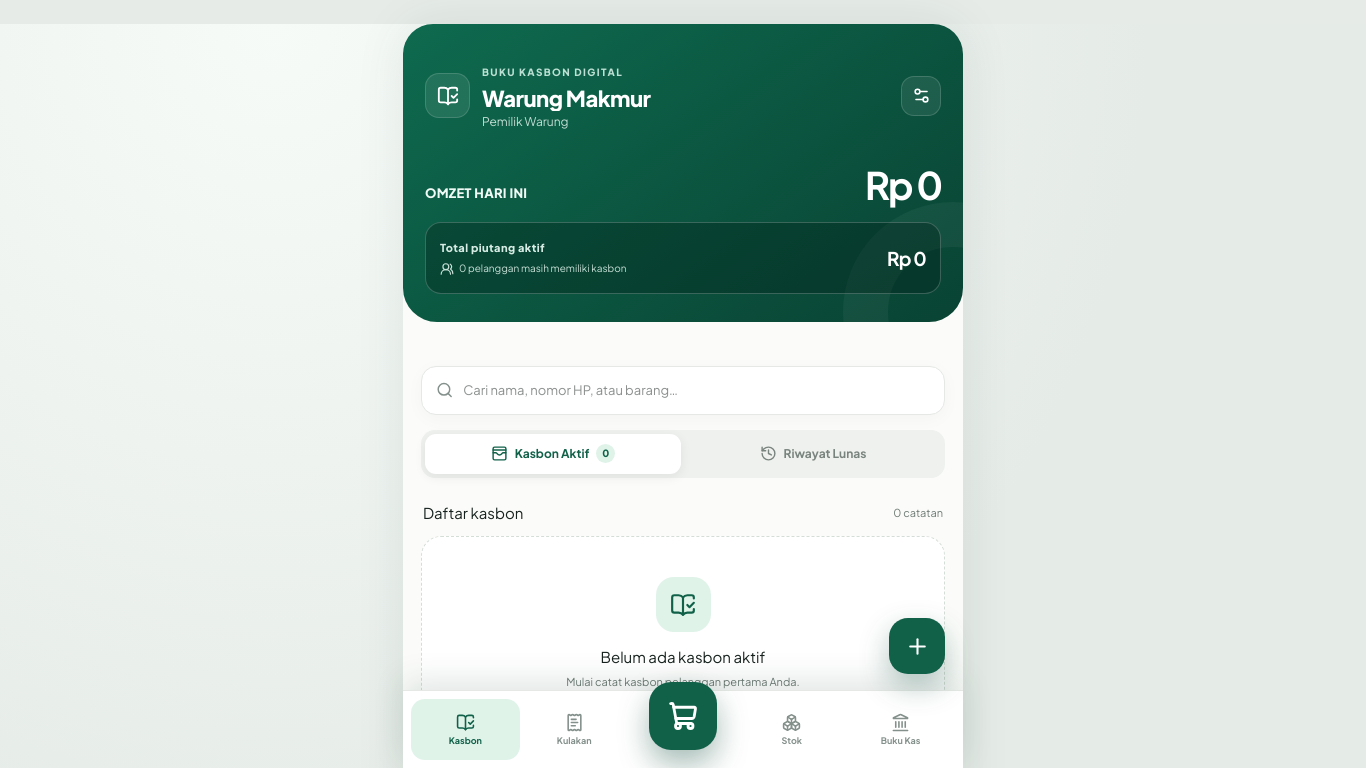
Test case: Warung app navigation › adds a cashier total to today's omzet without reloading
The width and height of the screenshot is (1366, 768).
expect the field with placeholder "Cari nama, nomor HP, atau barang…" is shown: met, box [453,381,930,400]
Click the button named "Buka kasir cepat" at coordinates (683, 716), box [649,682,717,750]
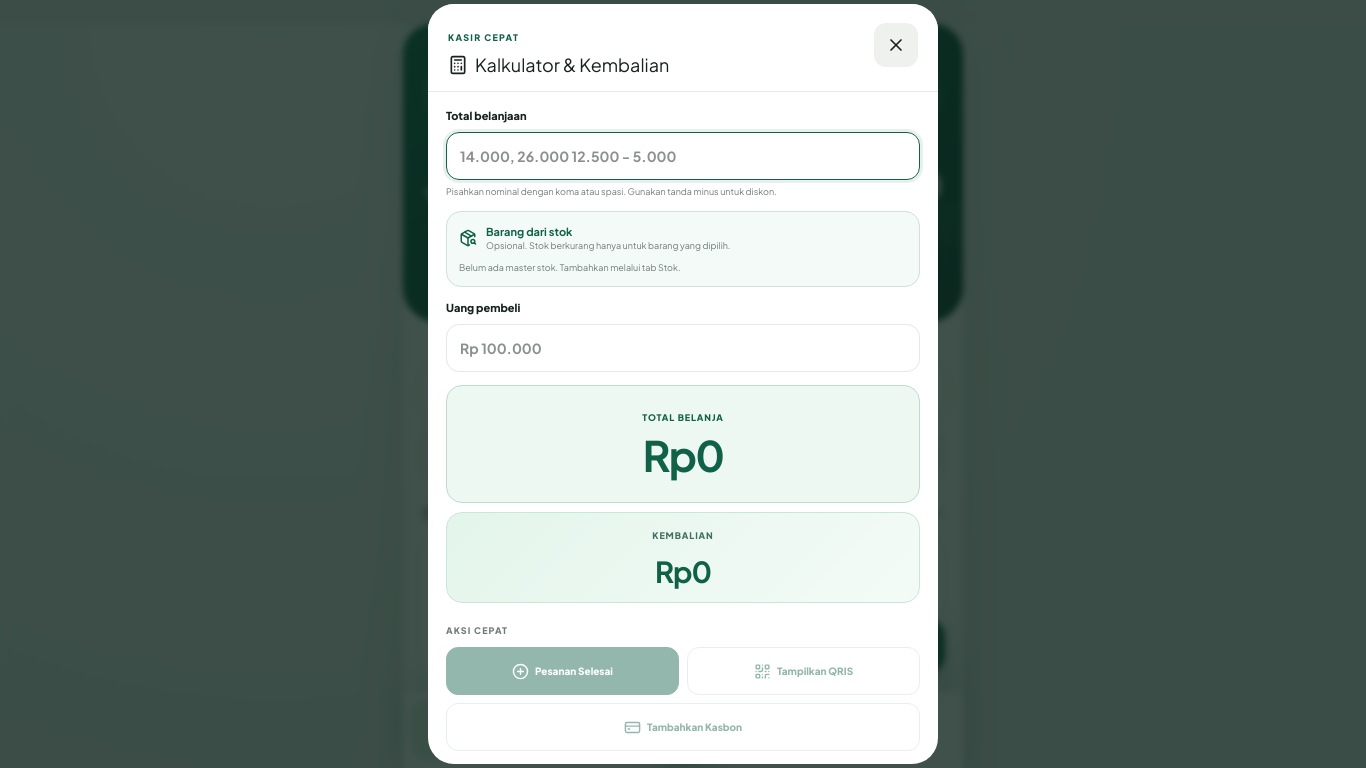
Type "52500" into the field labelled "Total belanjaan" at coordinates (683, 156), box [446,132,920,180]
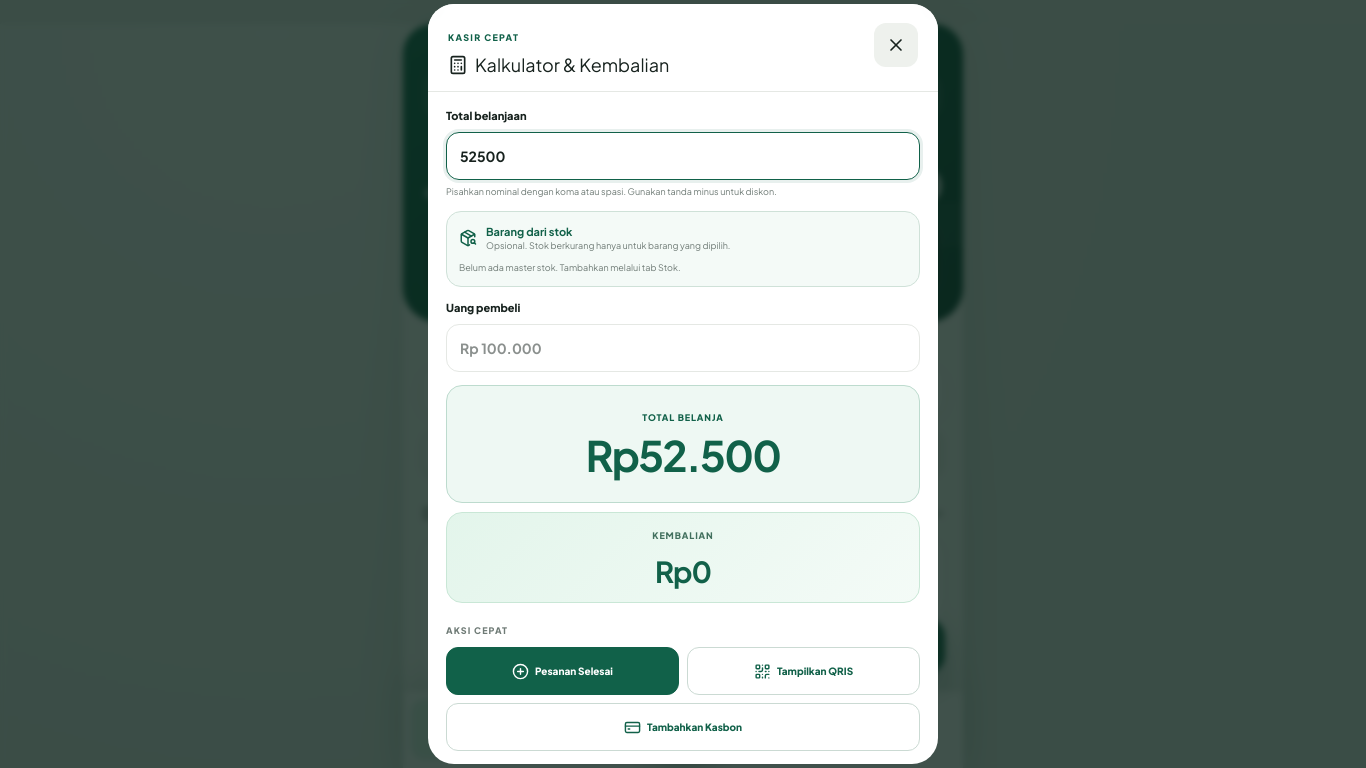
Click the button "Pesanan Selesai" at coordinates (562, 671), box [446,647,679,695]
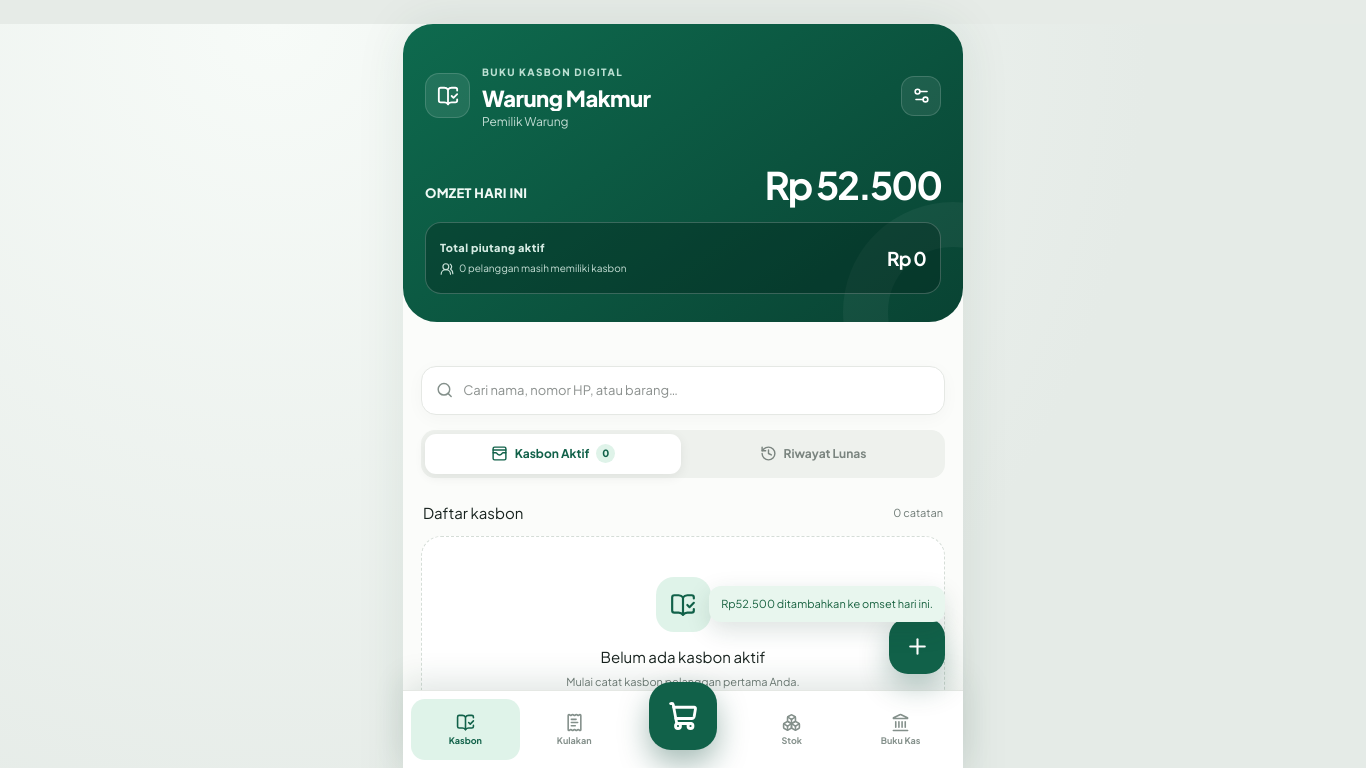
Click the button "Buku Kas" at coordinates (901, 730), box [846,699,955,760]
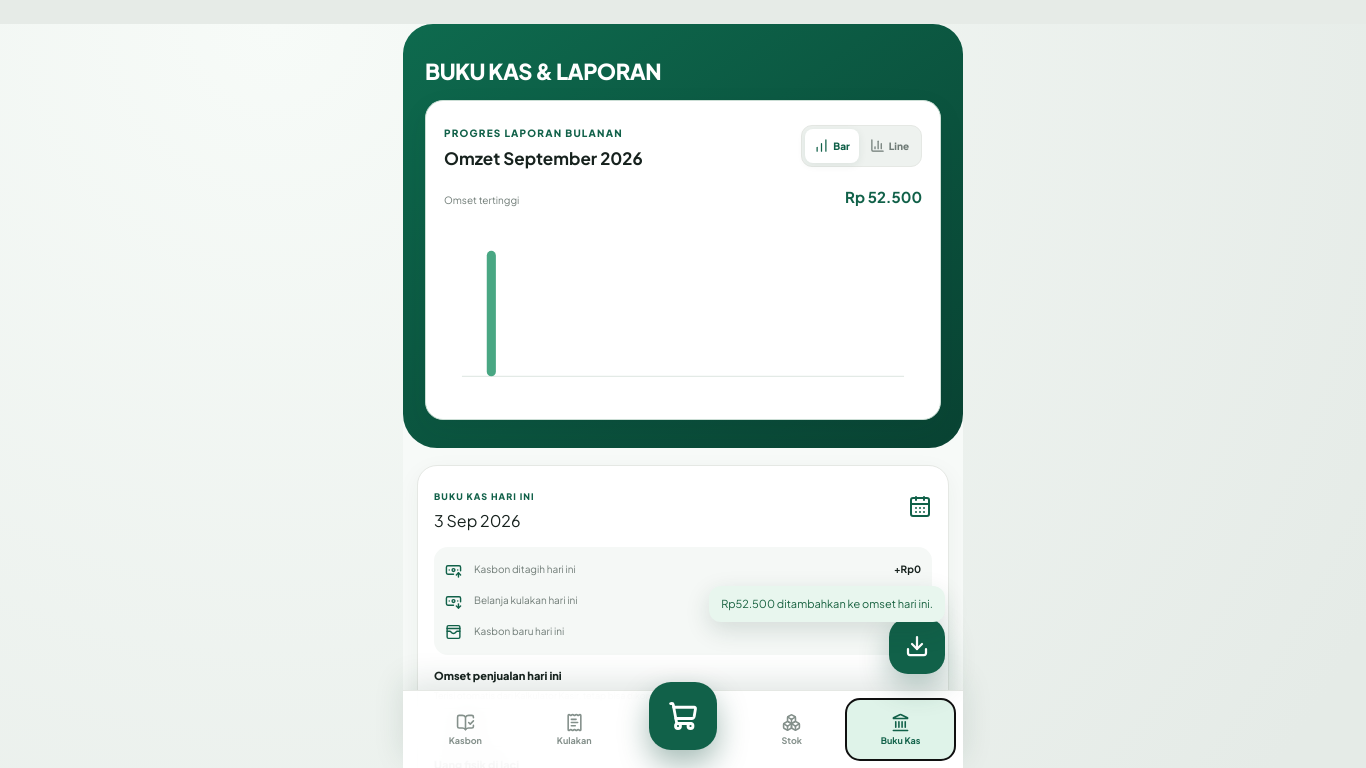
expect the number field labelled "Omset penjualan hari ini" holds "52500": met, box [434,708,932,747]
